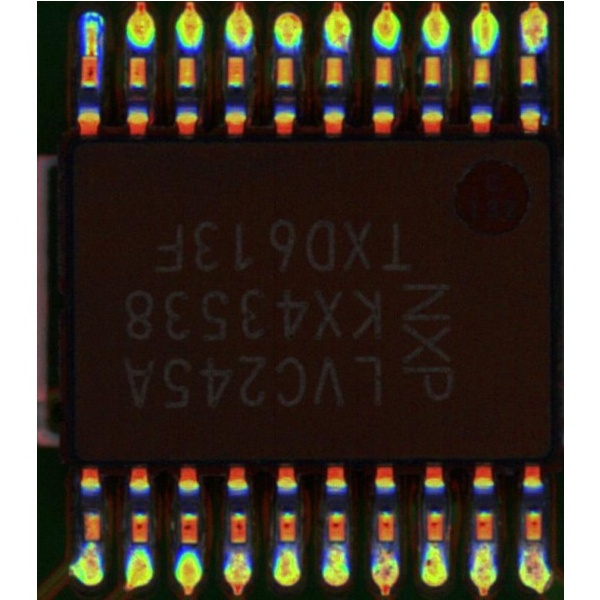Bad_podu: (84, 40, 95, 67)
